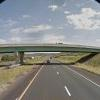Bridge: (7, 29, 100, 67)
